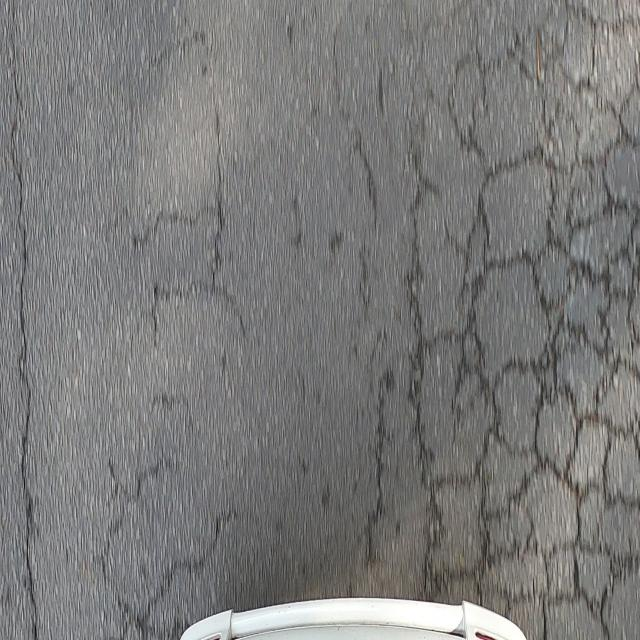Retak-Buaya: (408, 0, 640, 640)
Retak-Memanjang: (8, 36, 40, 640)
